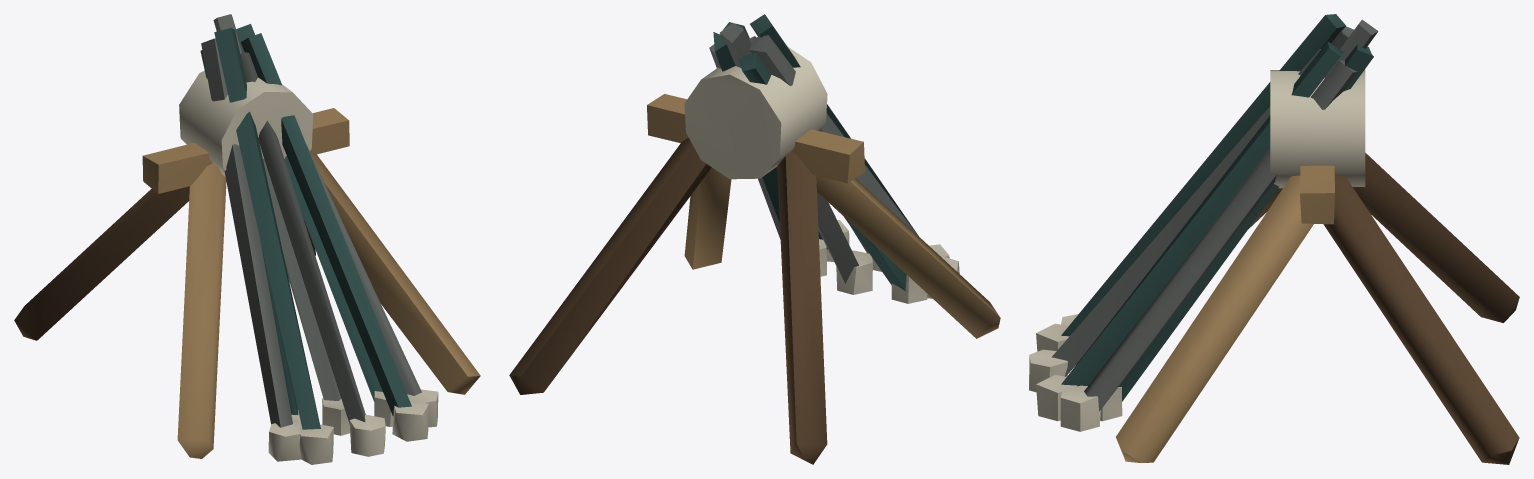
The model's file is drill_steels_a_lod2.glb.
The picture shows the model from 3 angles, left to right: view 1: azimuth 30°, elevation 25°; view 2: azimuth 150°, elevation 25°; view 3: azimuth 270°, elevation 25°; orthographic projection. The views are drawn at different scales.
Parts seen in each view (by area): view 1: Surface.001; view 2: Surface.001; view 3: Surface.001.
Part boxes in pixels (x1,y1,x2,y2): Surface.001: (14,14,480,464); Surface.001: (509,14,1000,464); Surface.001: (1029,14,1519,464).
Bounding box in the file's own units: 1.2 × 1.29 × 1.55.
